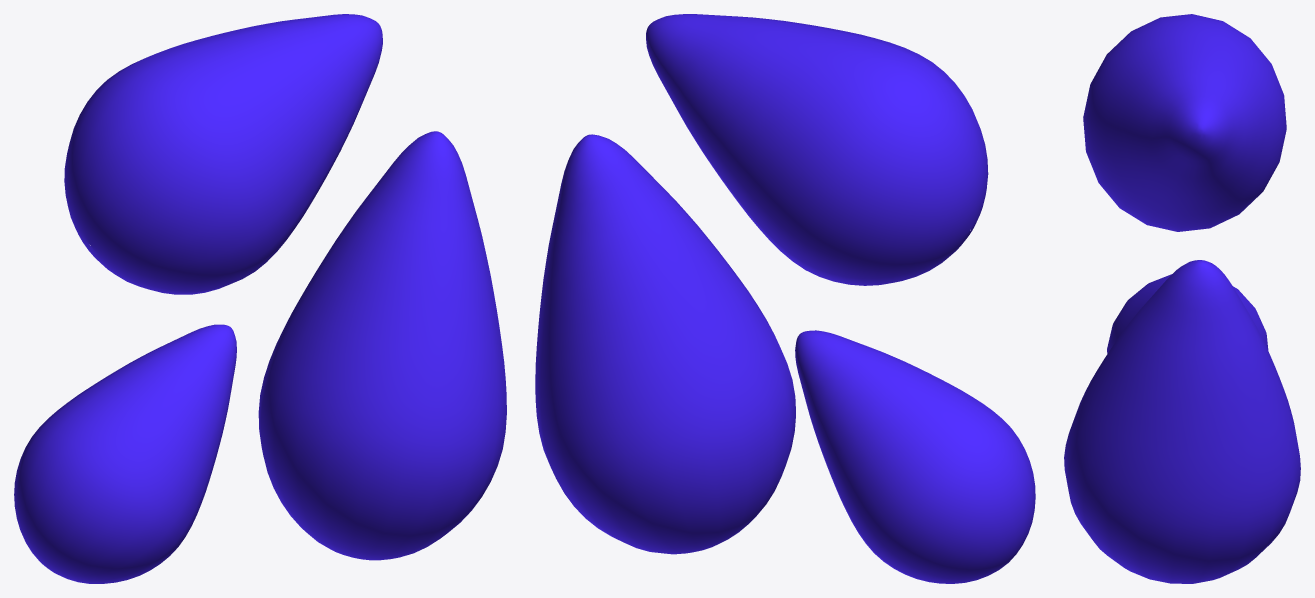
File: tears FBX.glb
3 renders of one model, left to right at view 1: azimuth 30°, elevation 25°; view 2: azimuth 150°, elevation 25°; view 3: azimuth 270°, elevation 25°, orthographic. The views are drawn at different scales.
Visible parts, largest first — view 1: Group33369, Group33367, Group33368; view 2: Group33369, Group33367, Group33368; view 3: Group33369, Group33367, Group33368.
Part boxes in pixels (x1,y1,x2,y2): Group33369: [258, 131, 506, 560]; Group33367: [64, 14, 382, 294]; Group33368: [14, 324, 236, 583]; Group33369: [535, 134, 795, 554]; Group33367: [646, 14, 988, 285]; Group33368: [795, 330, 1035, 583]; Group33369: [1064, 260, 1300, 583]; Group33367: [1083, 14, 1286, 231]; Group33368: [1107, 274, 1268, 353].
Size of the model in its own units: 0.3514 by 0.3905 by 0.1762.
